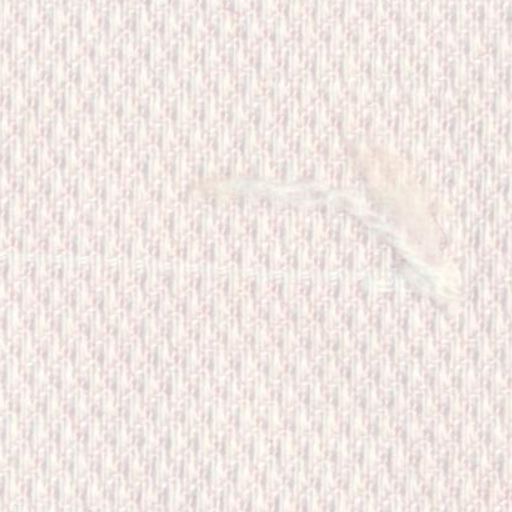DuanSha: (178, 146, 476, 326)
